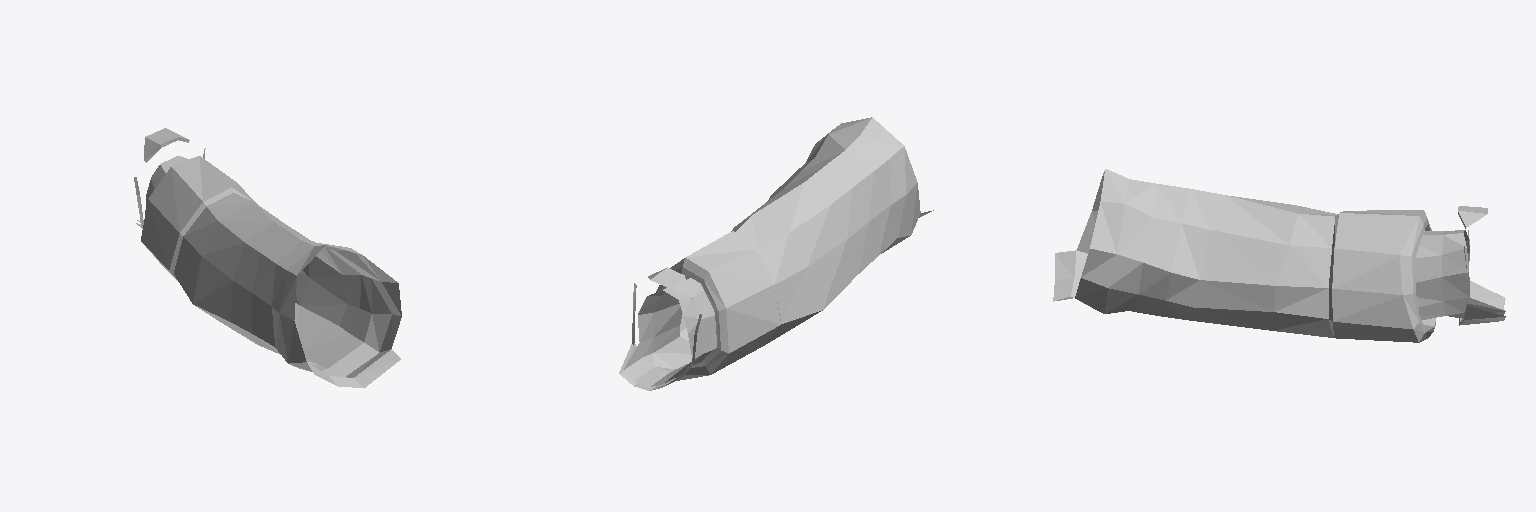
The model's file is l_lowerleg.obj.
3 renders of one model, left to right at view 1: azimuth 30°, elevation 25°; view 2: azimuth 150°, elevation 25°; view 3: azimuth 270°, elevation 25°, orthographic.
Visible parts, largest first — view 1: zoey_color_bmp_008_zoey_color_bmp.008; view 2: zoey_color_bmp_008_zoey_color_bmp.008; view 3: zoey_color_bmp_008_zoey_color_bmp.008.
Boxes of the visible parts, x1=… form: zoey_color_bmp_008_zoey_color_bmp.008: x1=134, y1=128, x2=401, y2=387; zoey_color_bmp_008_zoey_color_bmp.008: x1=619, y1=117, x2=933, y2=390; zoey_color_bmp_008_zoey_color_bmp.008: x1=1053, y1=169, x2=1505, y2=342.
Size of the model in its own units: 0.0978 by 0.1251 by 0.3253.